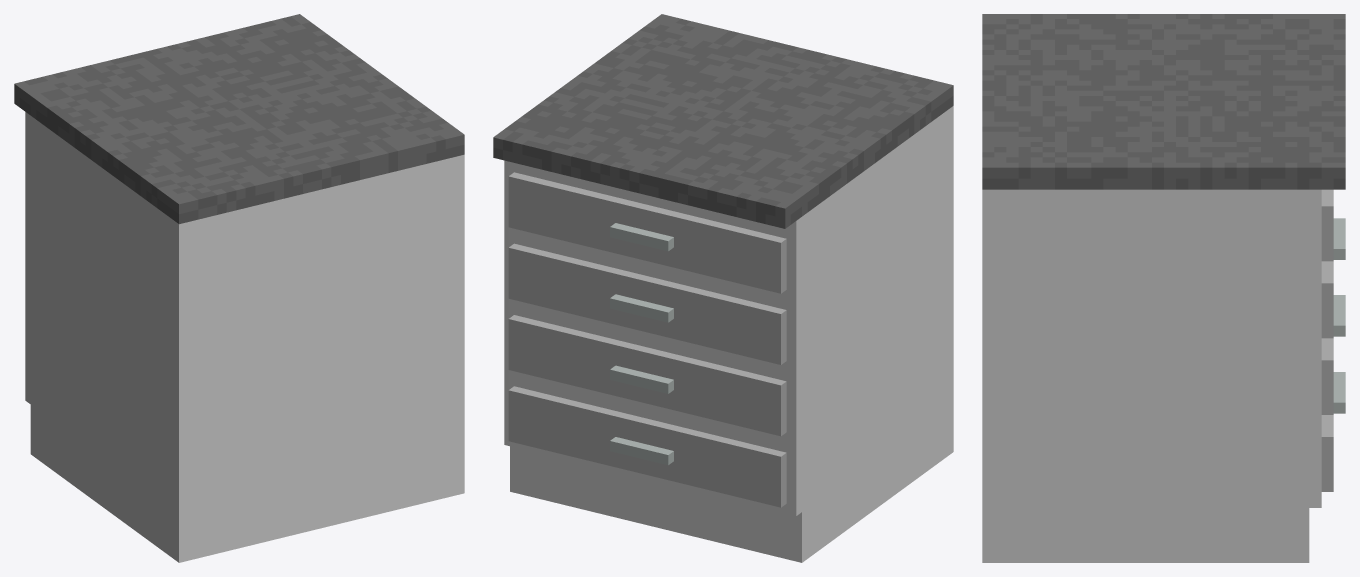
File: countertop_01.glb
3 renders of one model, left to right at view 1: azimuth 30°, elevation 25°; view 2: azimuth 150°, elevation 25°; view 3: azimuth 270°, elevation 25°, orthographic. The views are drawn at different scales.
Parts seen in each view (by area): view 1: Untitled; view 2: Untitled; view 3: Untitled.
Boxes of the visible parts, x1,y1,x2,y2 form: Untitled: (14, 14, 464, 562); Untitled: (493, 14, 953, 562); Untitled: (982, 14, 1345, 562).
Size of the model in its own units: 0.9 by 1.08 by 0.9.
Materials: 1 (1 with a texture image).
